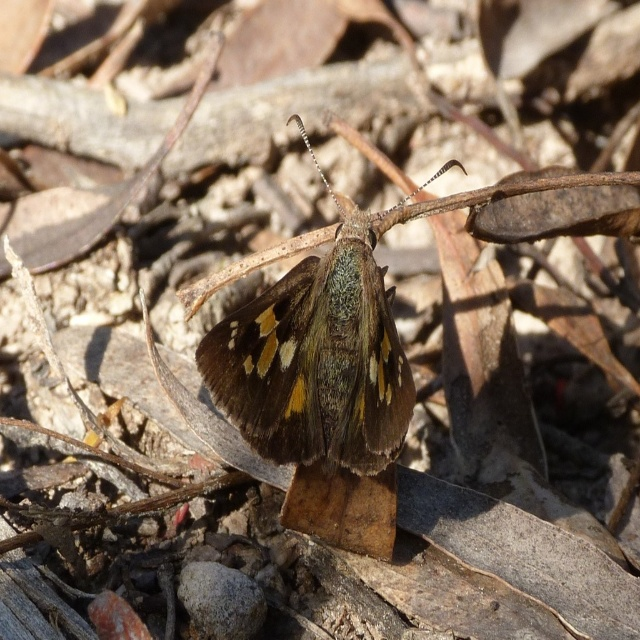Butterfly: (167, 100, 504, 524)
